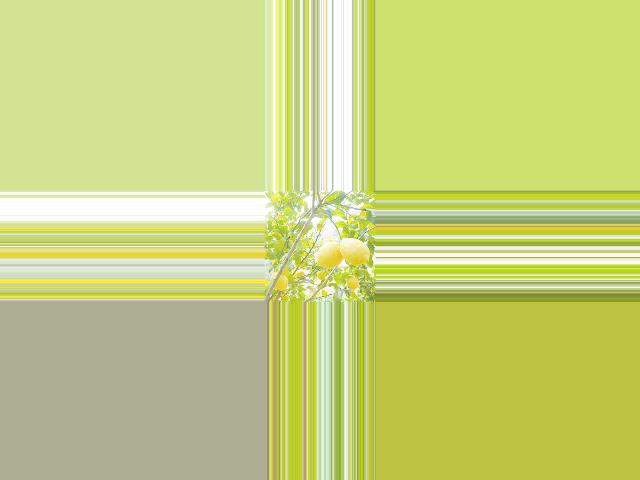lemon: (314, 238, 344, 272)
